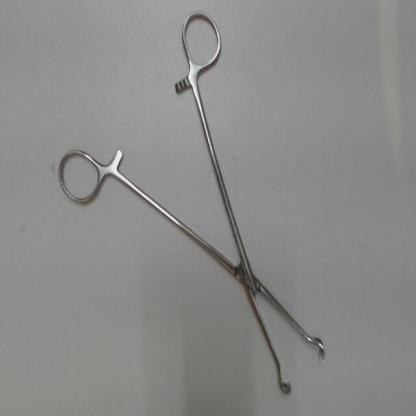8 Babcock Tissue Forceps: (54, 5, 333, 403)
